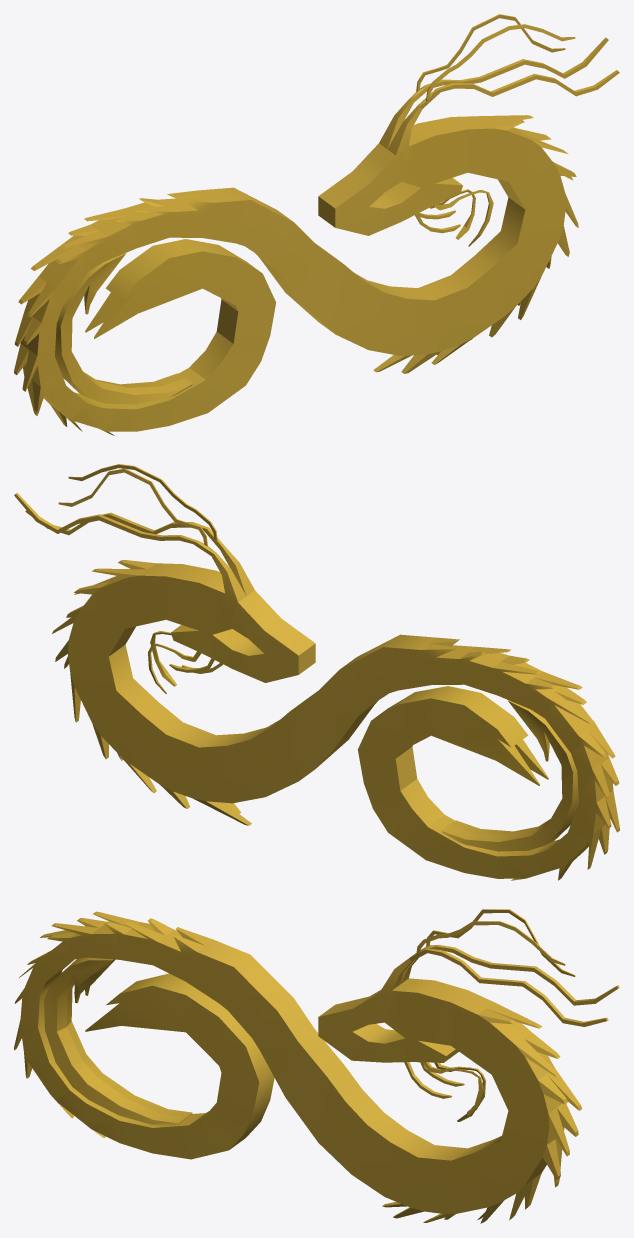
Rendered from dragon.fbx.
The picture shows the model from 3 angles, top to bottom: view 1: azimuth 30°, elevation 25°; view 2: azimuth 150°, elevation 25°; view 3: azimuth 330°, elevation 25°; orthographic projection.
Parts seen in each view (by area): view 1: polySurface3; view 2: polySurface3; view 3: polySurface3.
Boxes of the visible parts, x1=… form: polySurface3: x1=14, y1=14, x2=619, y2=435; polySurface3: x1=14, y1=464, x2=619, y2=880; polySurface3: x1=14, y1=909, x2=619, y2=1223.
Size of the model in its own units: 8.82 by 4.62 by 0.4411.
